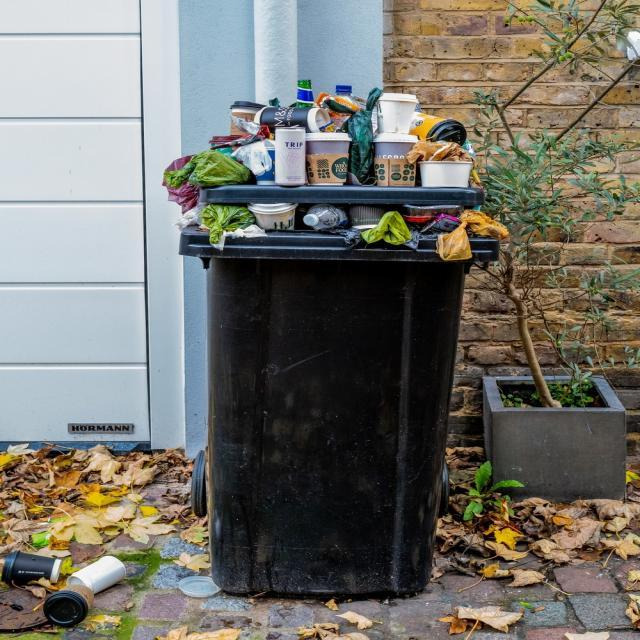Dumpster: (176, 208, 504, 607)
